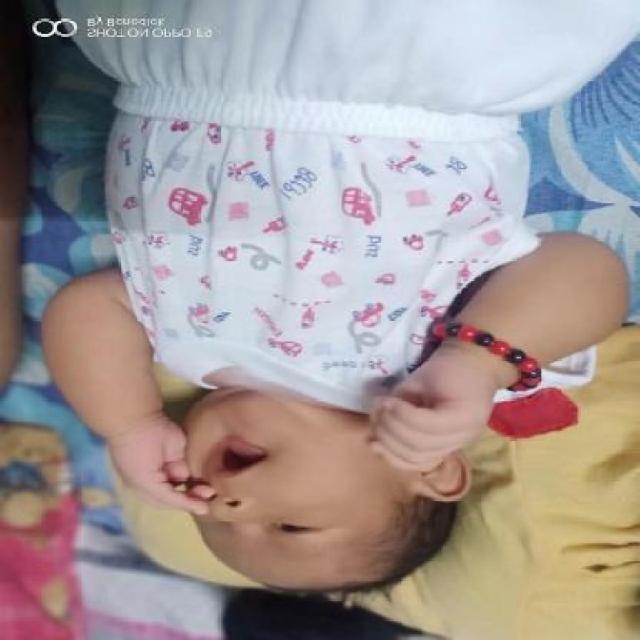baby: (40, 2, 629, 596)
